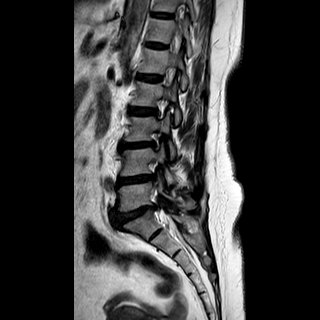LFS0: (149, 90, 173, 124), (157, 59, 181, 90)
LFS1: (145, 124, 166, 156)
